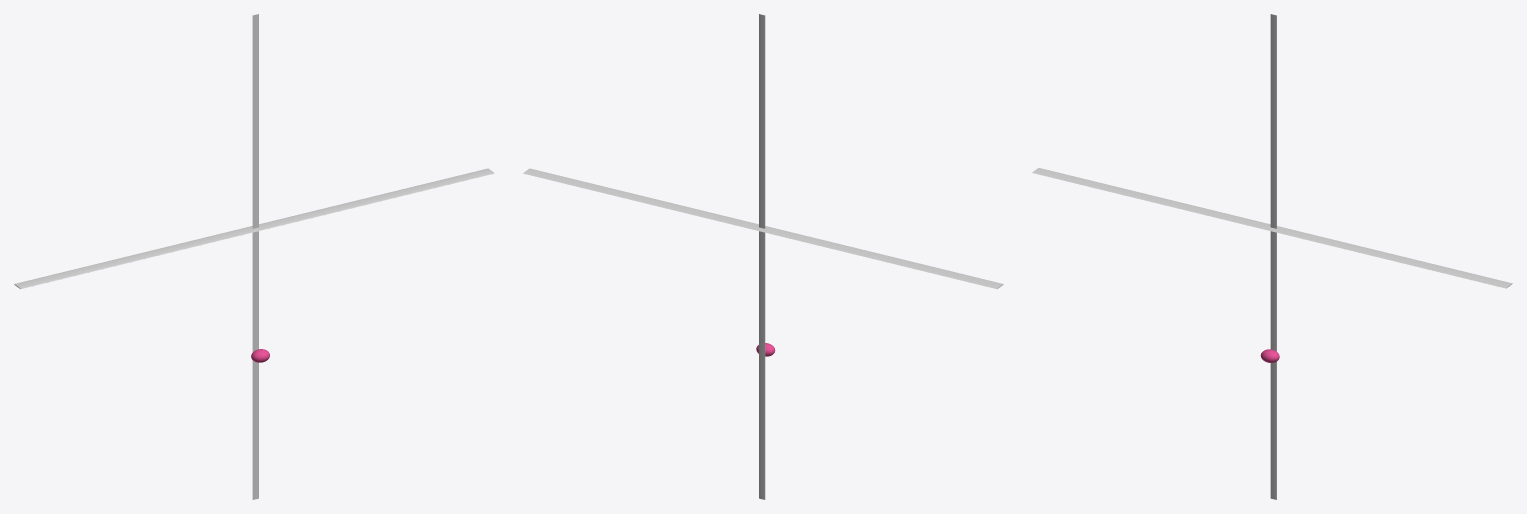
File: graph copy.dae
3 views of the same model, side by side, from view 1: azimuth 30°, elevation 25°; view 2: azimuth 150°, elevation 25°; view 3: azimuth 330°, elevation 25° (orthographic).
Parts seen in each view (by area): view 1: Cylinder, Cylinder.001; view 2: Cylinder, Cylinder.001; view 3: Cylinder, Cylinder.001.
Part boxes in pixels (<box>): Cylinder: <box>14,168,494,288</box>; Cylinder.001: <box>252,14,258,499</box>; Cylinder: <box>523,168,1003,288</box>; Cylinder.001: <box>759,14,765,499</box>; Cylinder: <box>1032,168,1512,288</box>; Cylinder.001: <box>1270,14,1276,499</box>.
Bounding box in the file's own units: 8.66 × 0.3716 × 8.46.
